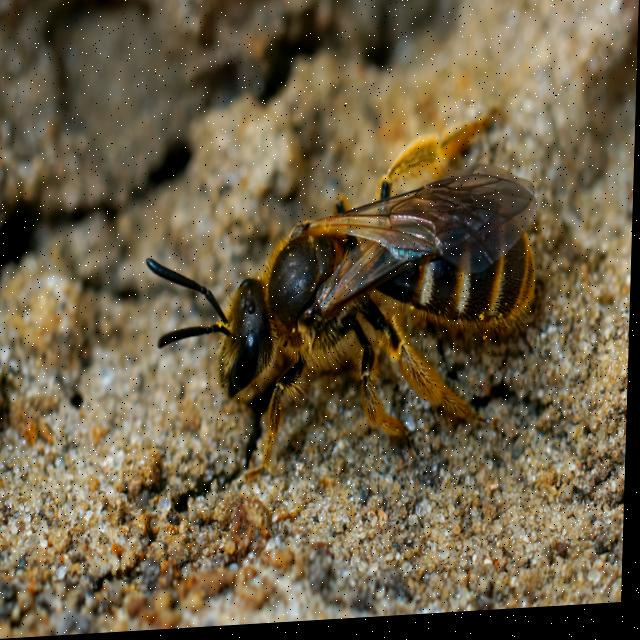Lasioglossum: (149, 116, 579, 462)
